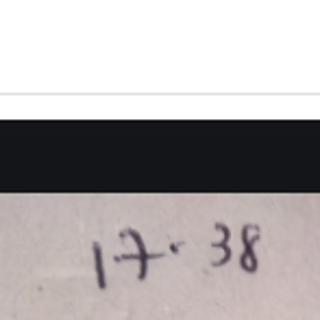.: (166, 237, 185, 255)
1: (90, 242, 107, 288)
3: (209, 222, 231, 265)
7: (117, 227, 164, 281)
8: (238, 222, 261, 272)
